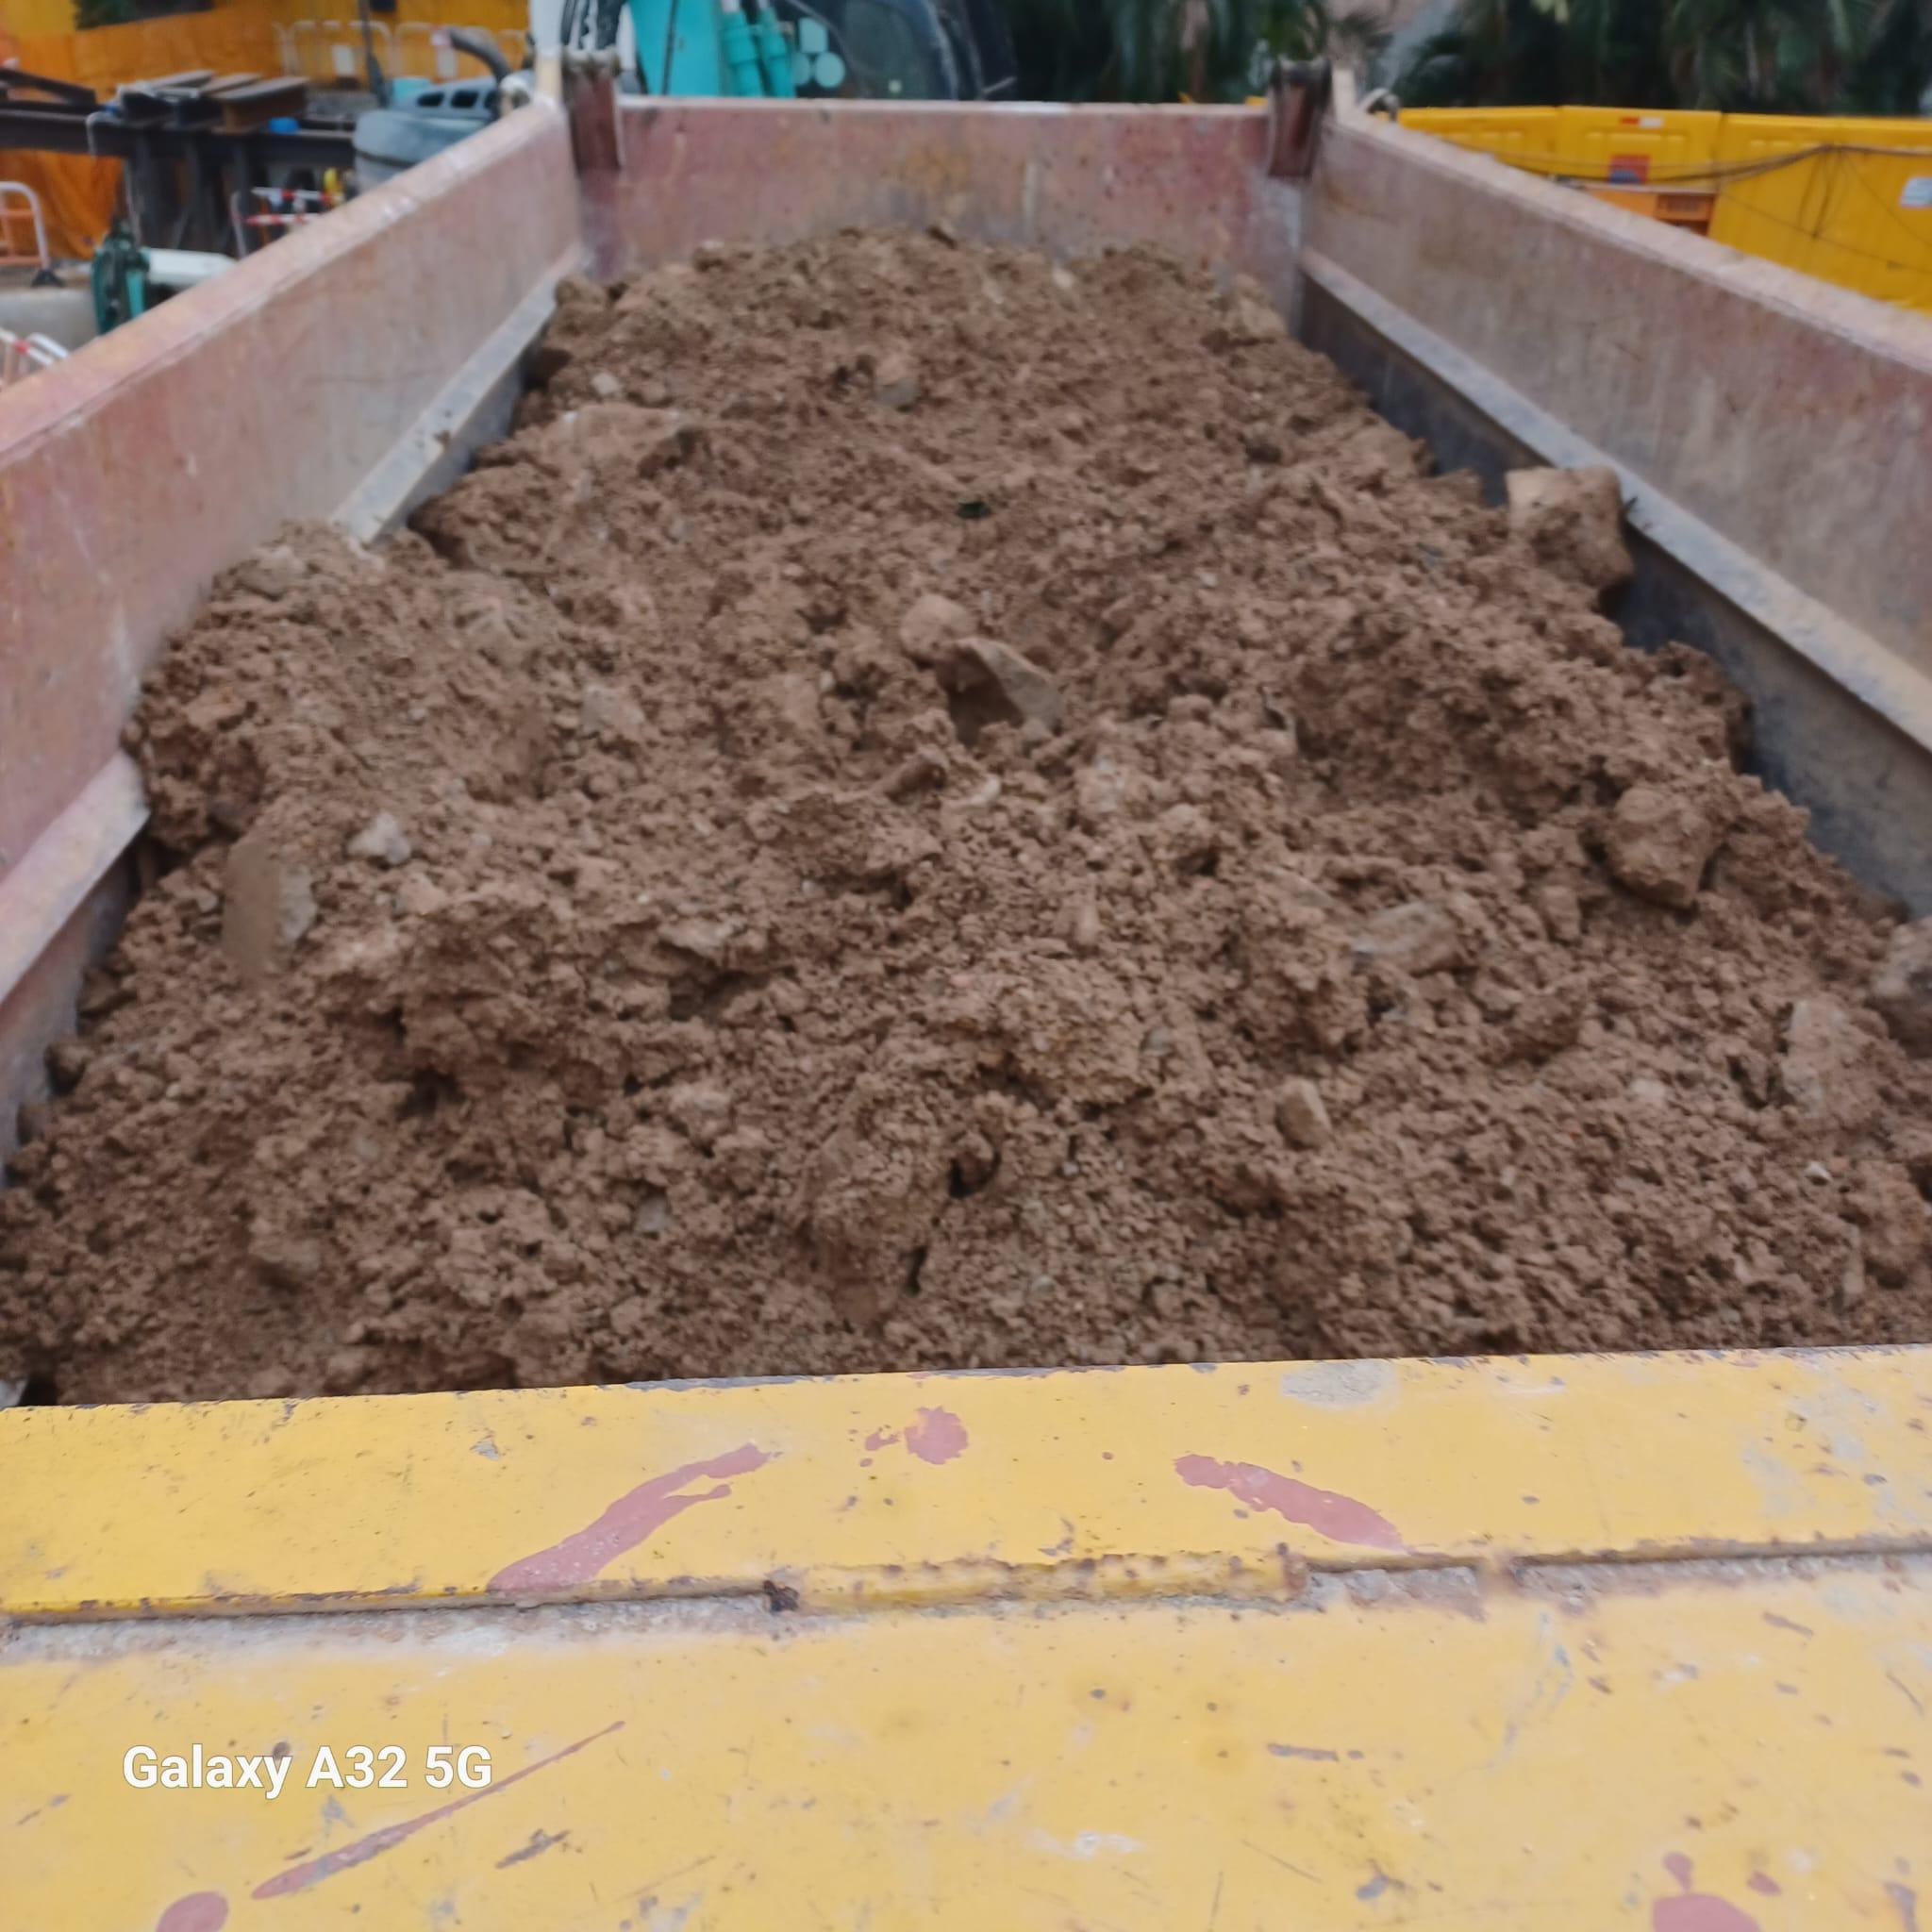wet: (16, 246, 1932, 1375)
